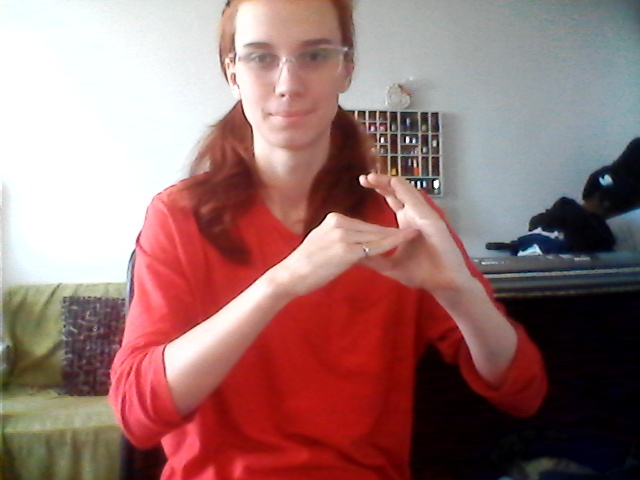e: (302, 169, 464, 315)
